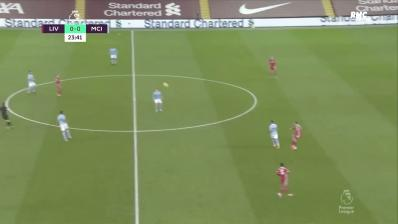football: (162, 81, 170, 89)
player: (274, 161, 295, 200), (56, 108, 74, 144), (266, 118, 283, 151), (290, 120, 305, 152), (151, 88, 165, 114), (25, 69, 38, 96), (267, 54, 280, 78), (54, 72, 65, 100), (109, 46, 120, 66)
referee: (1, 101, 16, 131)
